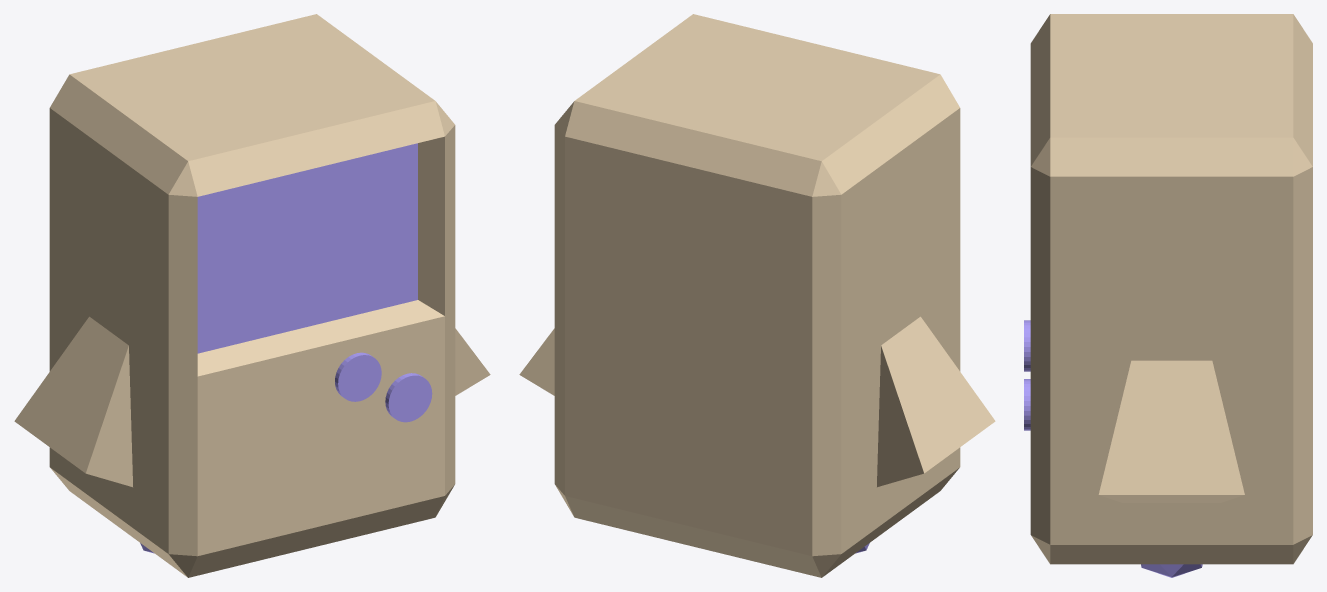
The model's file is bmo.fbx.
3 views of the same model, side by side, from view 1: azimuth 30°, elevation 25°; view 2: azimuth 150°, elevation 25°; view 3: azimuth 270°, elevation 25° (orthographic). The views are drawn at different scales.
Parts seen in each view (by area): view 1: Cube; view 2: Cube; view 3: Cube.
Part boxes in pixels (x1,y1,x2,y2): Cube: (14,14,490,577); Cube: (519,14,995,577); Cube: (1024,14,1312,577).
Size of the model in its own units: 339 by 361 by 205.
